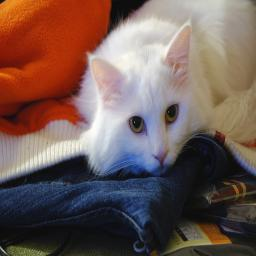catnose: (151, 144, 171, 166)
